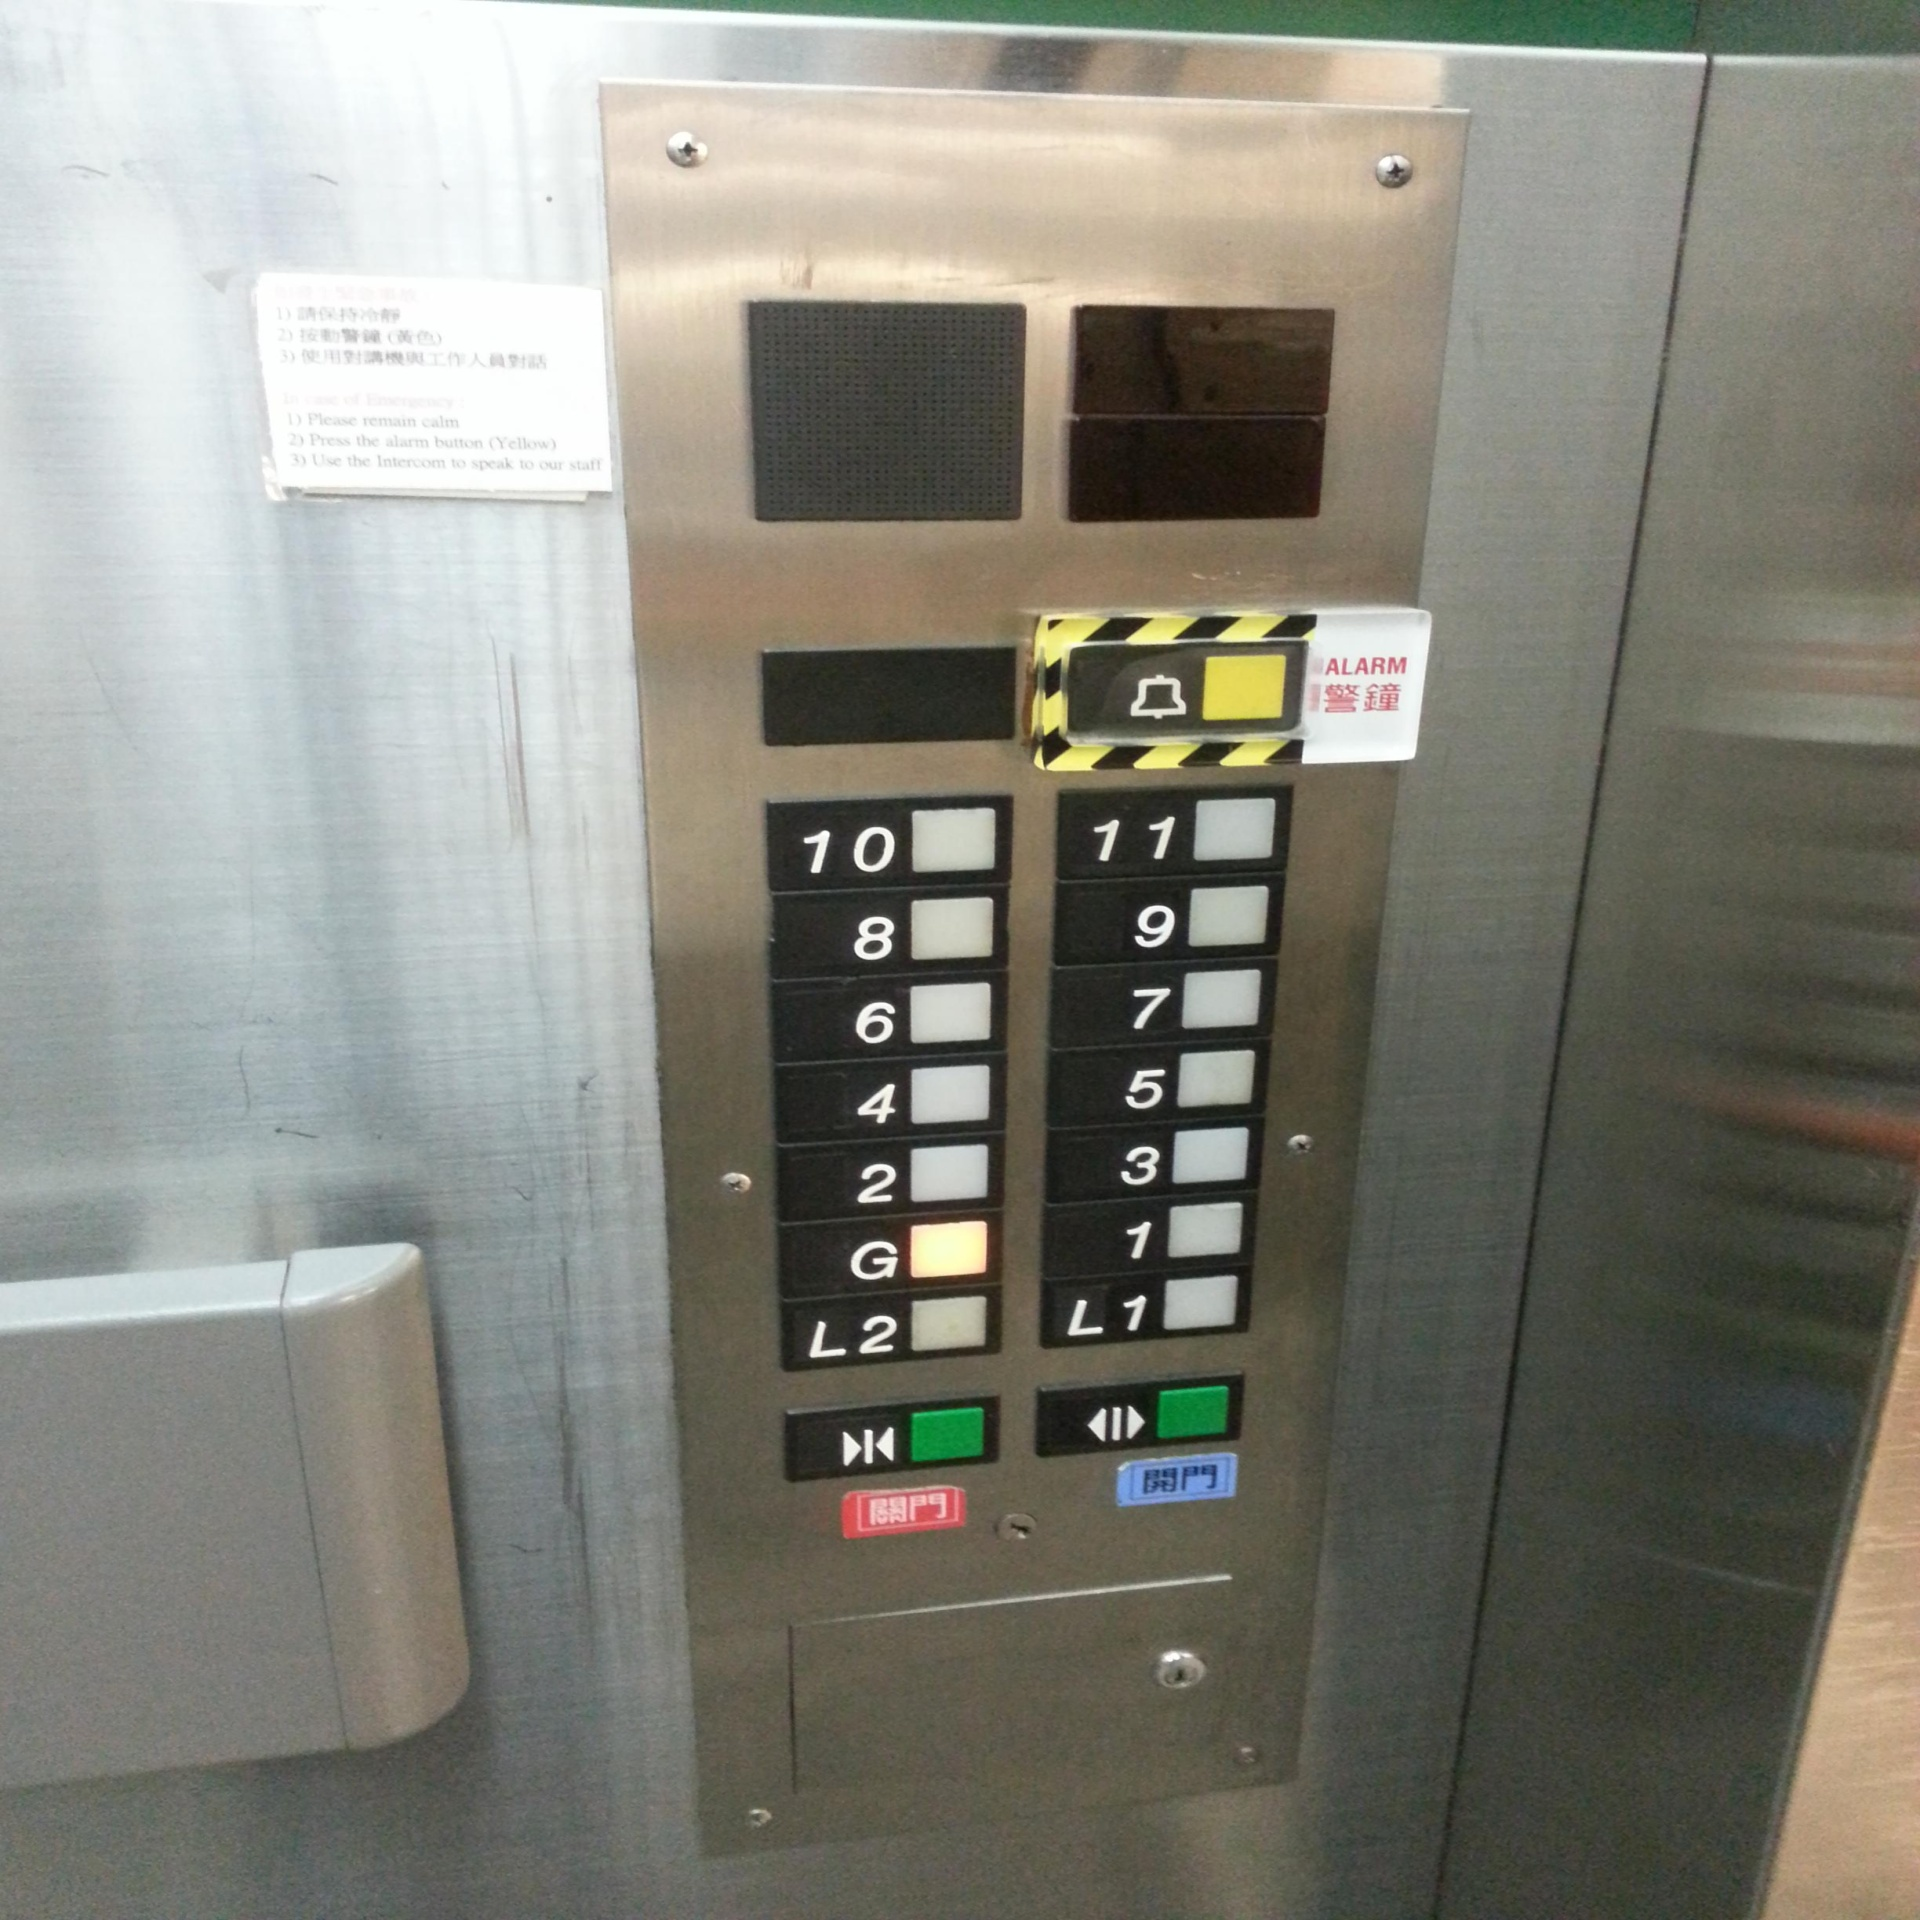1: (1036, 1189, 1268, 1282)
10: (761, 782, 1018, 893)
11: (1046, 774, 1305, 881)
2: (767, 1127, 1013, 1220)
3: (1036, 1115, 1271, 1208)
4: (767, 1044, 1013, 1152)
5: (1041, 1030, 1282, 1129)
6: (763, 969, 1013, 1071)
7: (1044, 956, 1291, 1055)
8: (765, 883, 1013, 981)
9: (1046, 863, 1294, 974)
G: (770, 1208, 1007, 1306)
L1: (1032, 1259, 1261, 1354)
L2: (774, 1280, 1016, 1377)
alarm: (1060, 631, 1312, 747)
close: (779, 1385, 1006, 1486)
keyhole: (1153, 1651, 1208, 1688), (993, 1510, 1043, 1545)
led: (1064, 297, 1336, 418), (1062, 411, 1329, 526), (754, 642, 1018, 753)
open: (1030, 1361, 1254, 1458)
